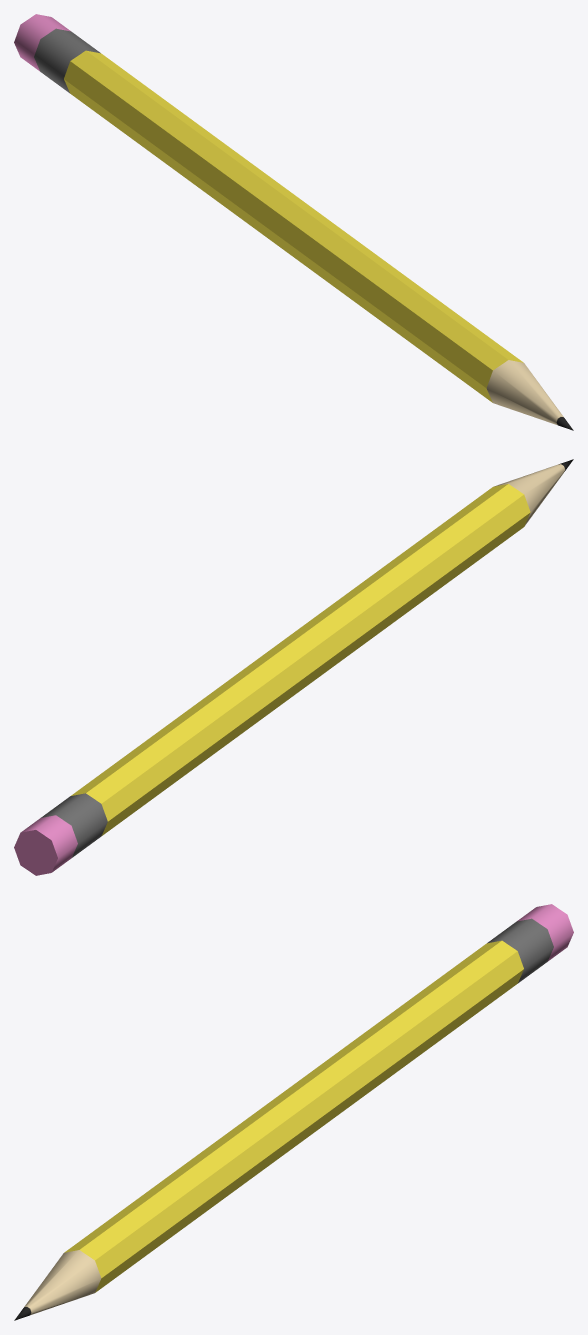
File: Asset_Pencil.fbx
The picture shows the model from 3 angles, top to bottom: view 1: azimuth 30°, elevation 25°; view 2: azimuth 150°, elevation 25°; view 3: azimuth 330°, elevation 25°; orthographic projection.
Parts seen in each view (by area): view 1: Asset_Pencil; view 2: Asset_Pencil; view 3: Asset_Pencil.
Boxes of the visible parts, left/top/right/bottom form: Asset_Pencil: left=14, top=14, right=573, bottom=430; Asset_Pencil: left=14, top=459, right=573, bottom=875; Asset_Pencil: left=14, top=904, right=573, bottom=1320.
Size of the model in its own units: 2 by 2 by 42.24.
